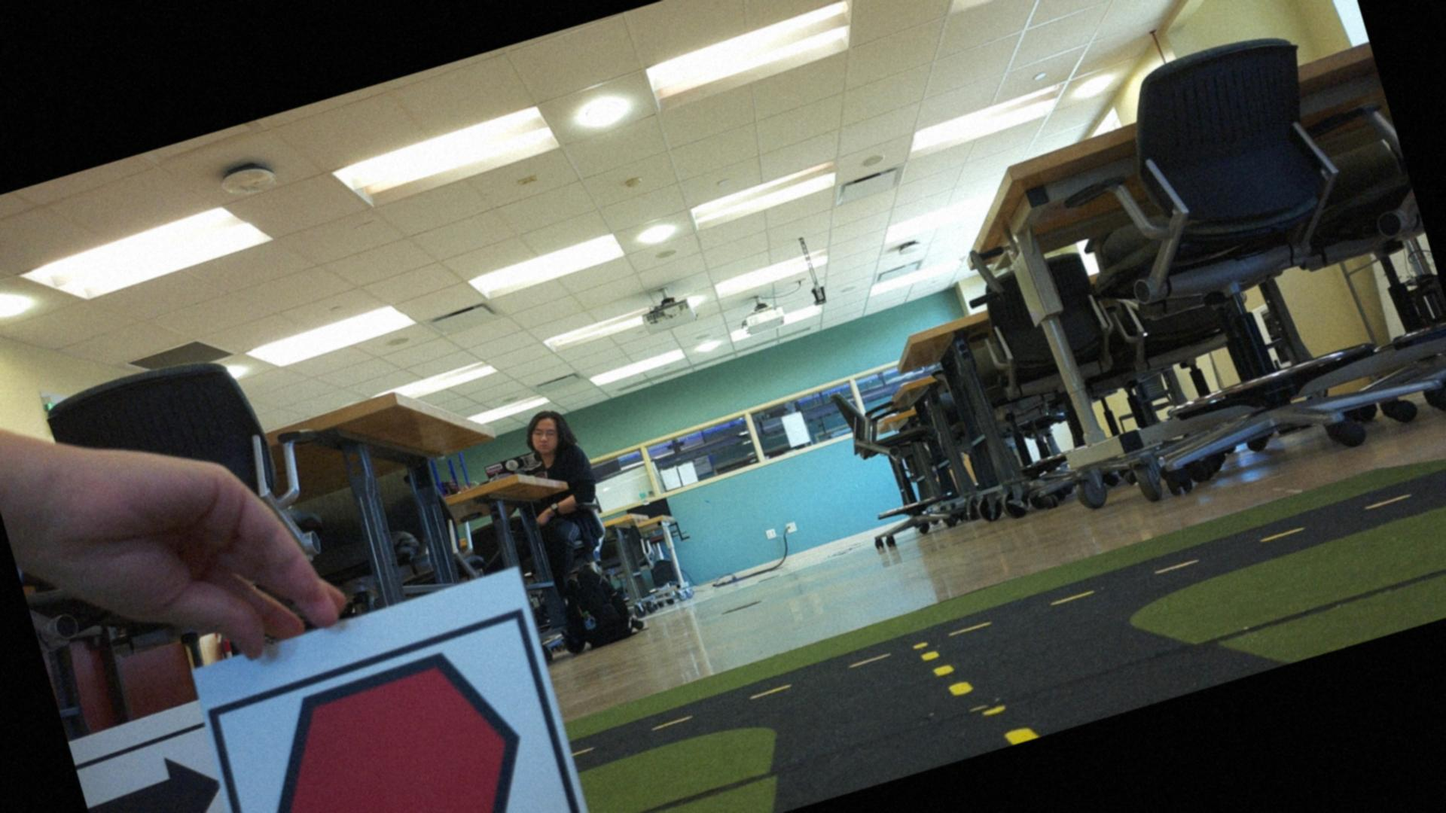stop: (227, 620, 575, 812)
turnright: (77, 733, 239, 812)
yellowline: (922, 627, 1039, 762)
